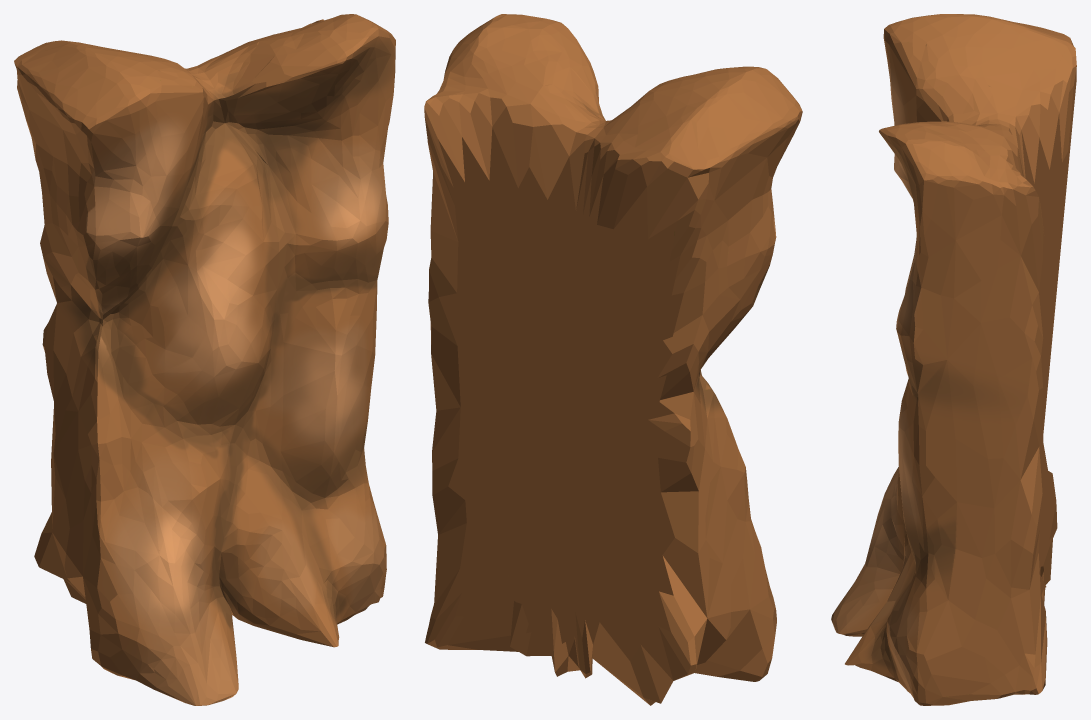
Rendered from Cliff.fbx.
3 renders of one model, left to right at view 1: azimuth 30°, elevation 25°; view 2: azimuth 150°, elevation 25°; view 3: azimuth 270°, elevation 25°, orthographic. The views are drawn at different scales.
Visible parts, largest first — view 1: Cliff; view 2: Cliff; view 3: Cliff.
Part boxes in pixels (x1=…): Cliff: x1=14, y1=14, x2=395, y2=705; Cliff: x1=424, y1=14, x2=802, y2=705; Cliff: x1=831, y1=14, x2=1076, y2=705.
Size of the model in its own units: 920 by 1643 by 624.
